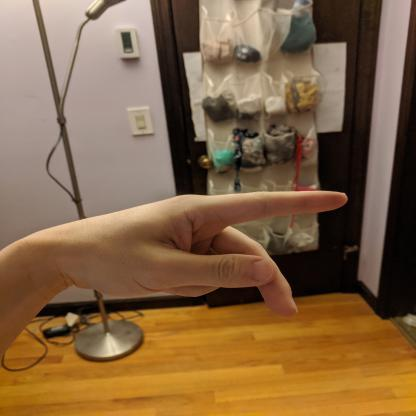P: (47, 186, 353, 318)
